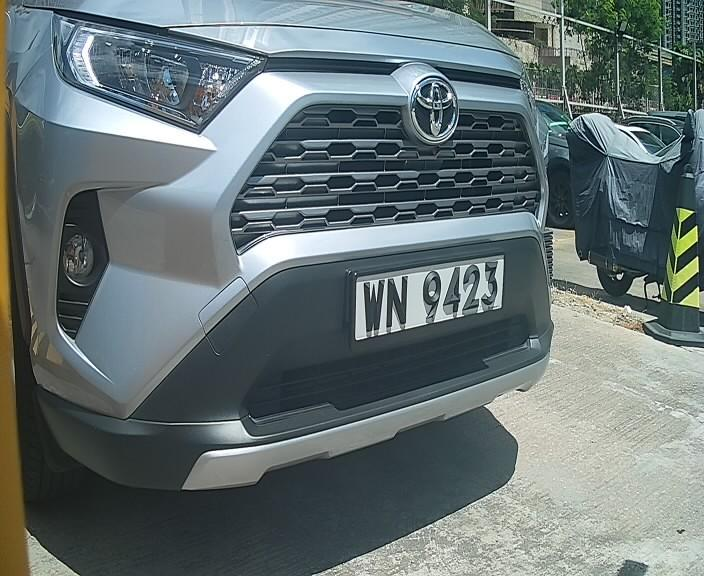Car: (38, 11, 576, 525)
License Plate: (356, 247, 507, 343)
